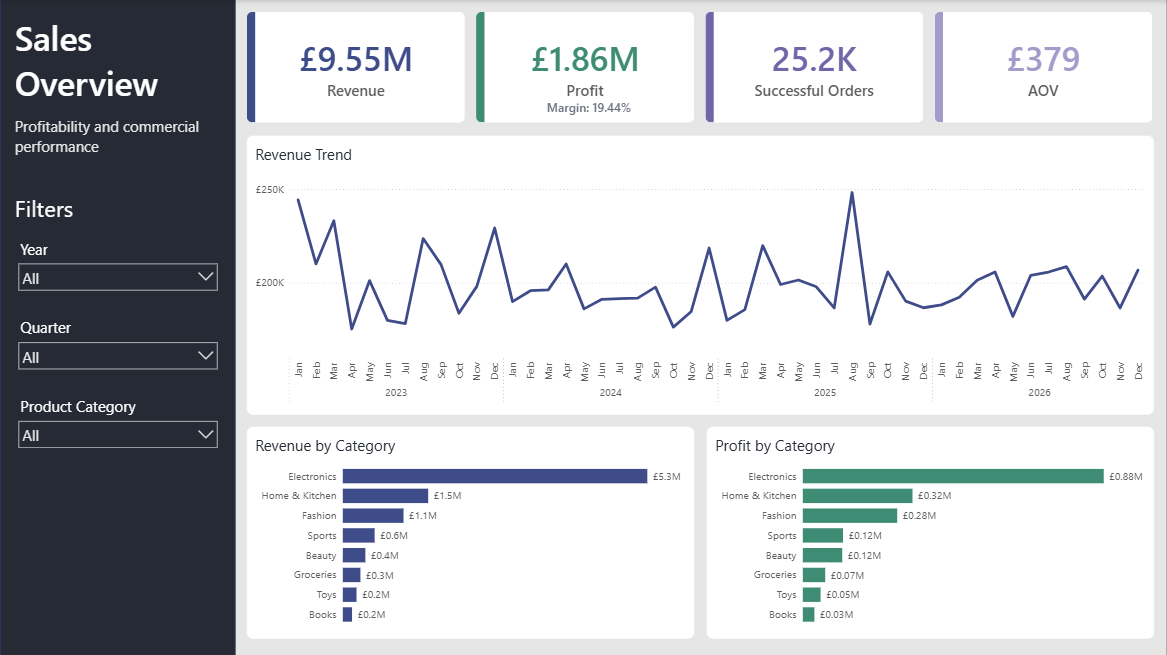

This screenshot's page, from the dashboard's own definition file:
{"tool":"powerbi","page":{"name":"Sales Overview","canvas":[1664,936],"ordinal":0},"visuals":[{"type":"cardVisual","fields":{"Data":["Measures (3).Realised Revenue","Measures (3).Realised Profit","Measures (3).Successful Orders","Measures (3).Average Order Value"]},"box":[336,0,1328,192],"z":0},{"type":"shape","box":[0,-8,336,944],"z":1000},{"type":"textbox","box":[16,16,304,144],"z":2000},{"type":"lineChart","title":"Revenue Trend","fields":{"Y":["Measures (3).Realised Revenue"],"Category":["dim_date.year","dim_date.month_short_name"]},"box":[352,192,1296,400],"z":3000},{"type":"textbox","box":[16,160,304,80],"z":4000},{"type":"clusteredBarChart","title":"Revenue by Category","fields":{"Y":["Measures (3).Realised Revenue"],"Category":["fact_orders.product_category"]},"box":[352,608,640,304],"z":5000},{"type":"clusteredBarChart","title":"Profit by Category","fields":{"Y":["Measures (3).Realised Profit"],"Category":["fact_orders.product_category"]},"box":[1008,608,640,304],"z":6000},{"type":"cardVisual","fields":{"Data":["Measures (3).Profit Margin Label"]},"box":[688,128,304,48],"z":7000},{"type":"slicer","title":"Filters","fields":{"Values":["dim_date.year"]},"box":[16,336,304,96],"z":8000},{"type":"slicer","title":"Filters","fields":{"Values":["dim_date.quarter_name"]},"box":[16,448,304,96],"z":9000},{"type":"slicer","title":"Filters","fields":{"Values":["fact_orders.product_category"]},"box":[16,560,304,96],"z":10000},{"type":"textbox","box":[16,272,128,80],"z":11000}]}

Visuals, with their boxes in screenshot pixels (x1, y1, x2, y2), scaled from the page's 1664x936 canvas onto the 1167x655 screenshot:
cardVisual - Measures (3).Realised Revenue x Measures (3).Realised Profit: <region>236, 0, 1166, 134</region>
shape: <region>0, 0, 236, 654</region>
textbox: <region>11, 11, 224, 112</region>
"Revenue Trend" lineChart: <region>247, 134, 1156, 414</region>
textbox: <region>11, 112, 224, 168</region>
"Revenue by Category" clusteredBarChart: <region>247, 425, 696, 638</region>
"Profit by Category" clusteredBarChart: <region>707, 425, 1156, 638</region>
cardVisual - Measures (3).Profit Margin Label: <region>483, 90, 696, 123</region>
"Filters" slicer: <region>11, 235, 224, 302</region>
"Filters" slicer: <region>11, 314, 224, 381</region>
"Filters" slicer: <region>11, 392, 224, 459</region>
textbox: <region>11, 190, 101, 246</region>
